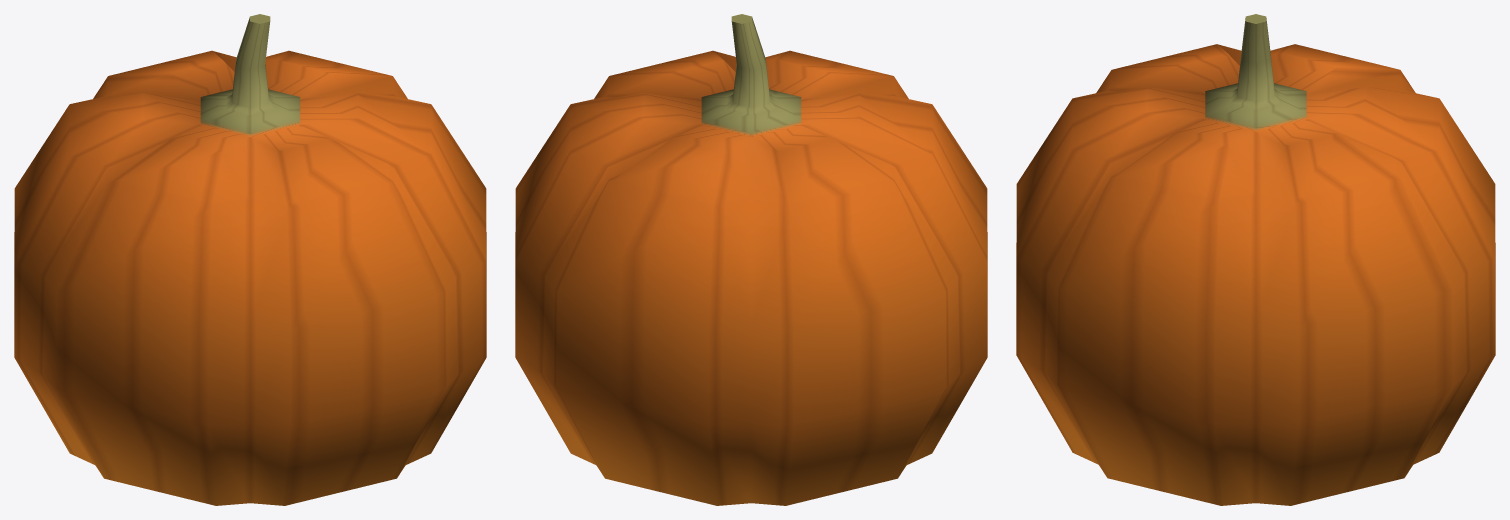
Rendered from Pumpkin.FBX.
3 views of the same model, side by side, from view 1: azimuth 30°, elevation 25°; view 2: azimuth 150°, elevation 25°; view 3: azimuth 270°, elevation 25° (orthographic).
Parts seen in each view (by area): view 1: Pumpkin; view 2: Pumpkin; view 3: Pumpkin.
Boxes of the visible parts, x1,y1,x2,y2 form: Pumpkin: (14,14,486,505); Pumpkin: (515,14,987,505); Pumpkin: (1016,14,1495,505).
Bounding box in the file's own units: 16.93 × 16.05 × 16.11.
1 material, 1 textured.
